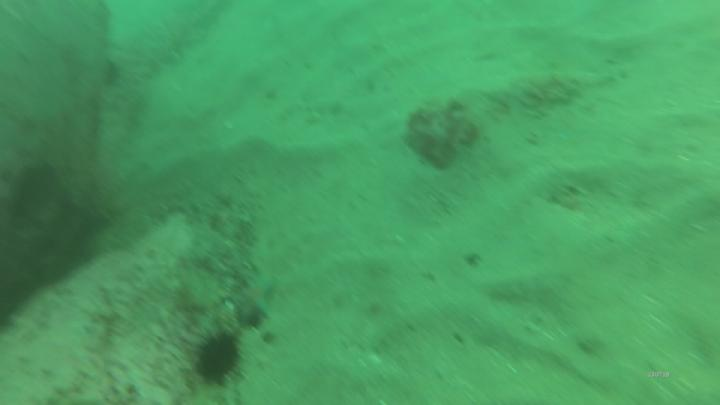echinus: (186, 319, 252, 393)
starfish: (223, 275, 279, 329)
